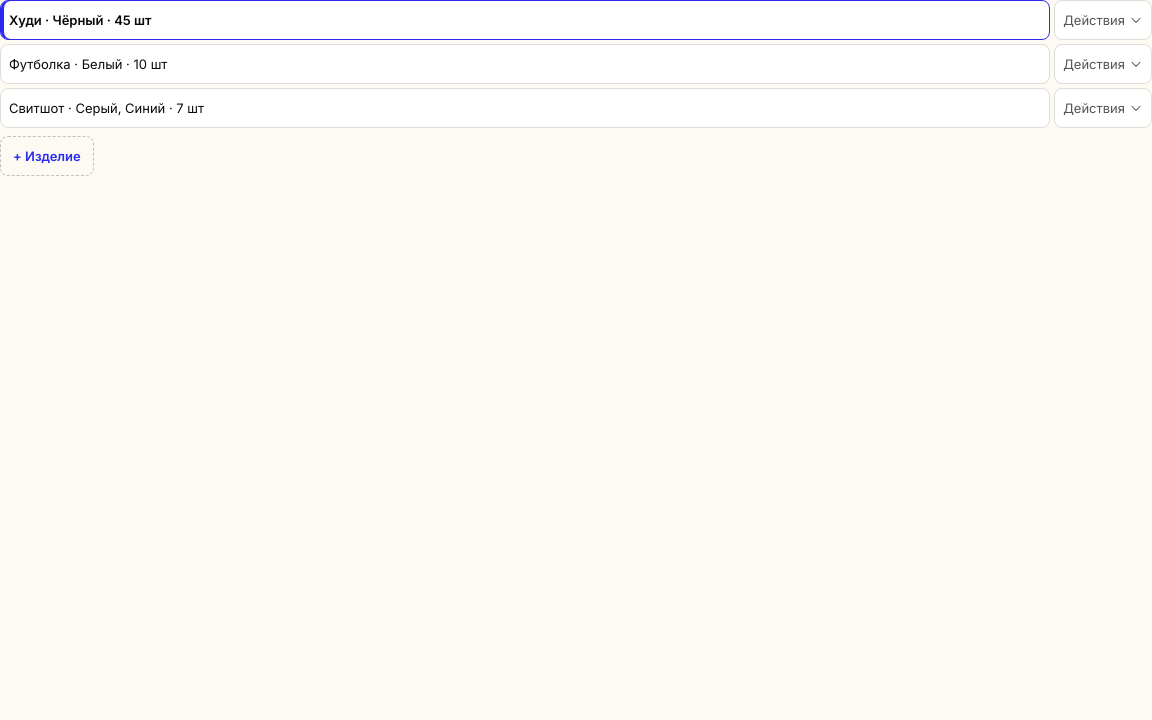
ItemList — список изделий заказа › копия в другом цвете: окно «Цвет новой позиции», кнопка «Создать позицию»
Click the button with aria-label "Действия с изделием «Худи · Чёрный · 45 шт»".
click(1103, 20)  # box [1054, 0, 1151, 40]
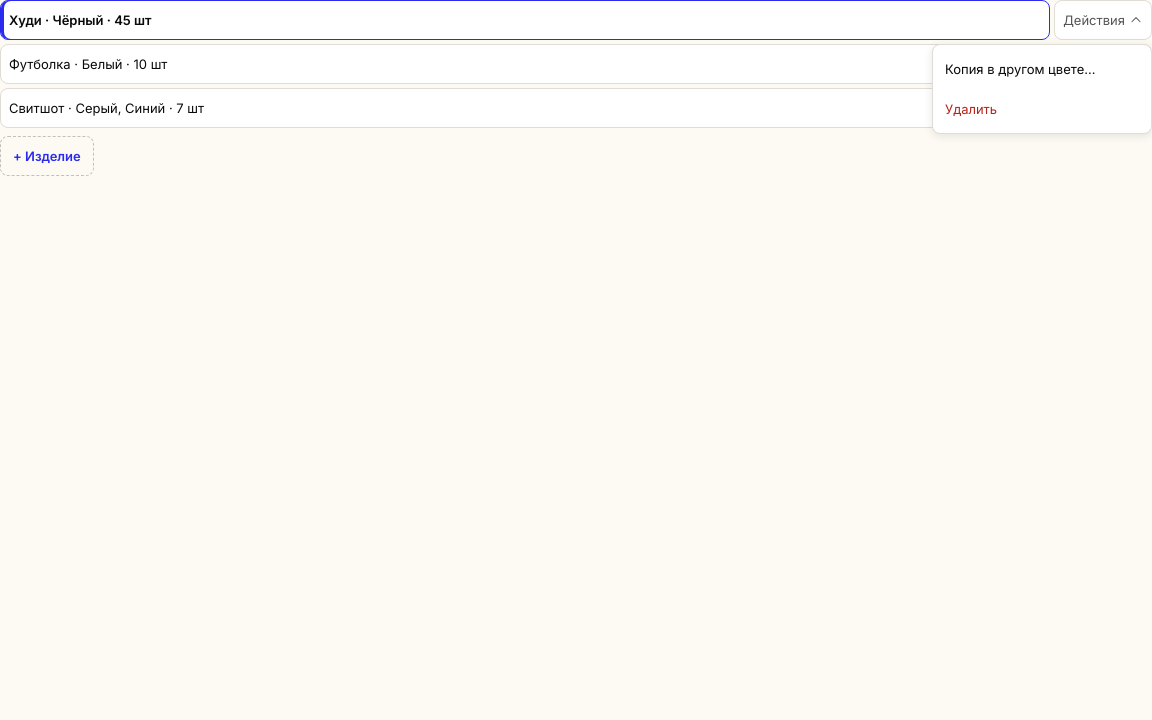
Click the button "Копия в другом цвете…".
click(1042, 69)  # box [937, 49, 1147, 89]
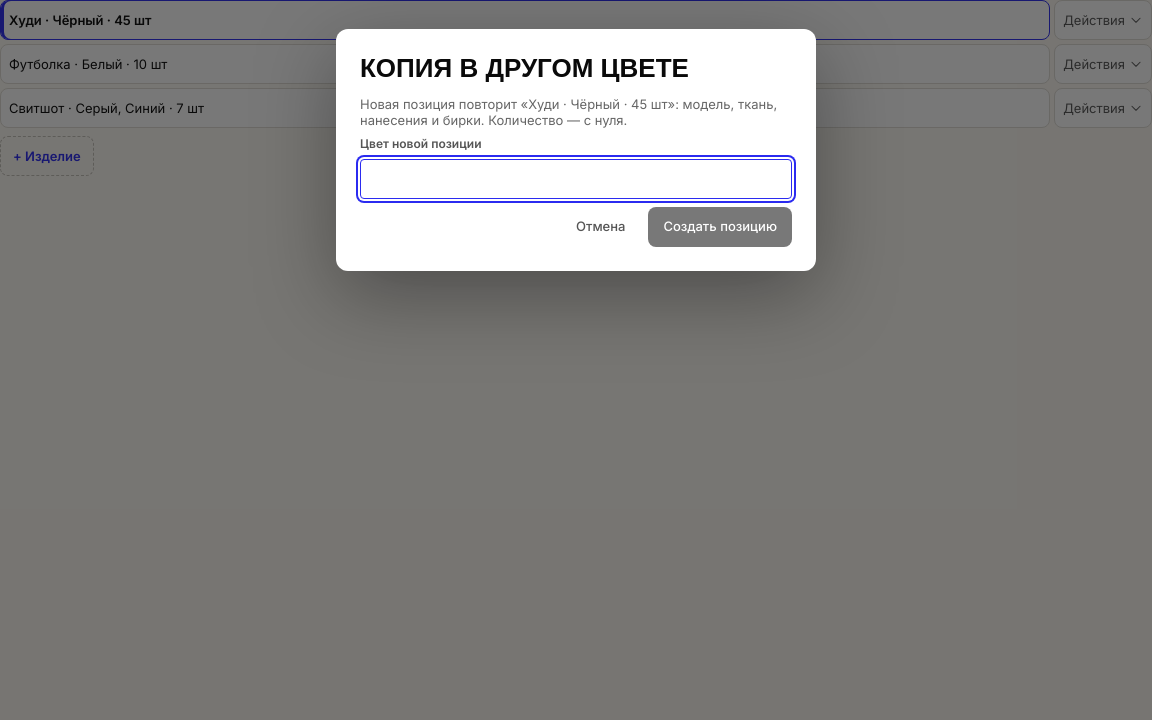
Expected: the button "Создать позицию" is disabled, [648, 207, 792, 247]
Type "  Красный " into the field labelled "Цвет новой позиции".
click(576, 179); type("  Красный ")  # box [360, 159, 792, 199]
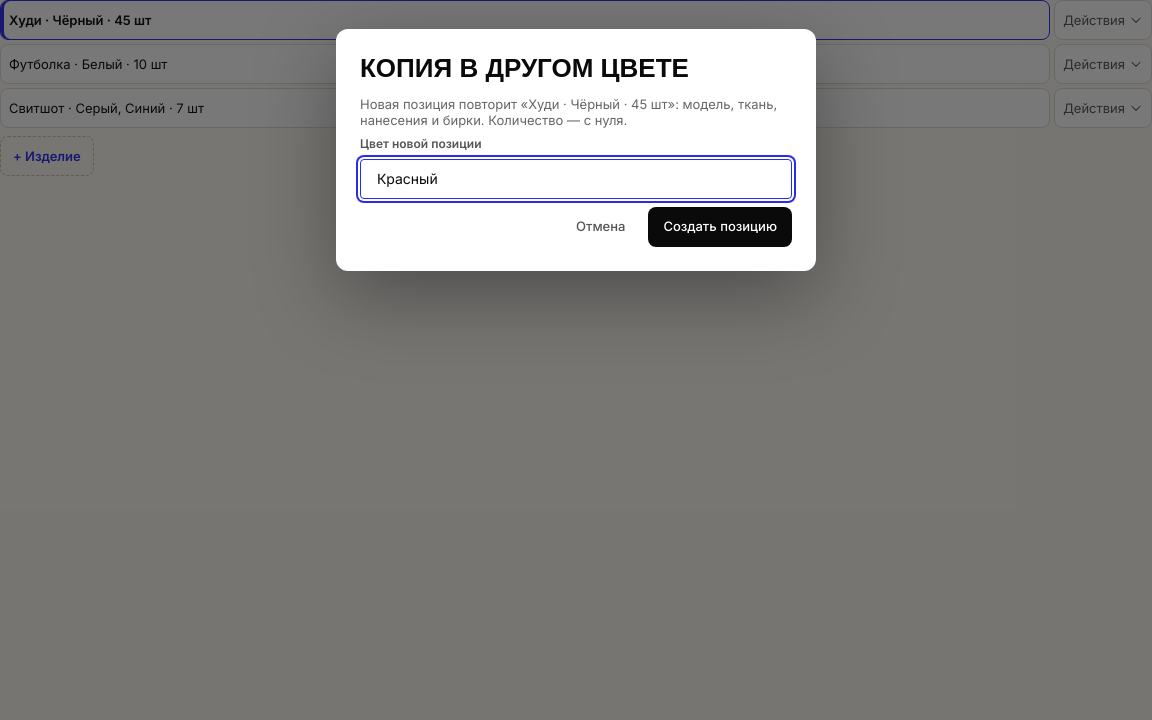
Click the button "Создать позицию".
click(720, 227)  # box [648, 207, 792, 247]
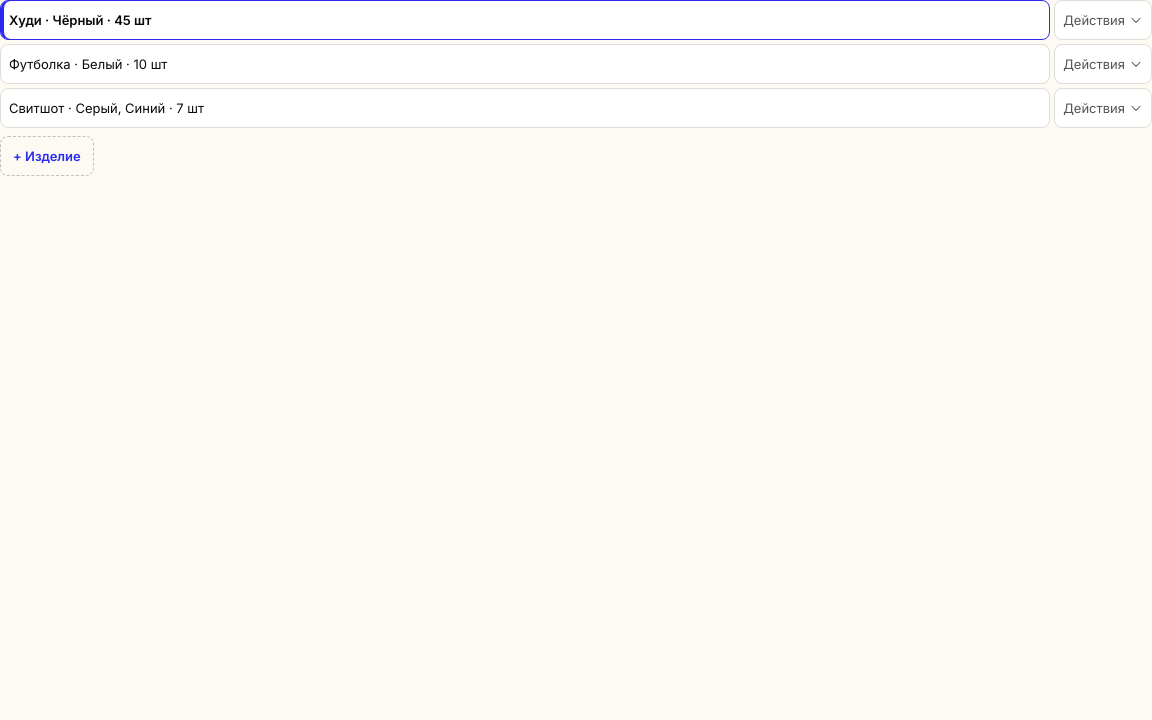
Expected: the dialog is gone
